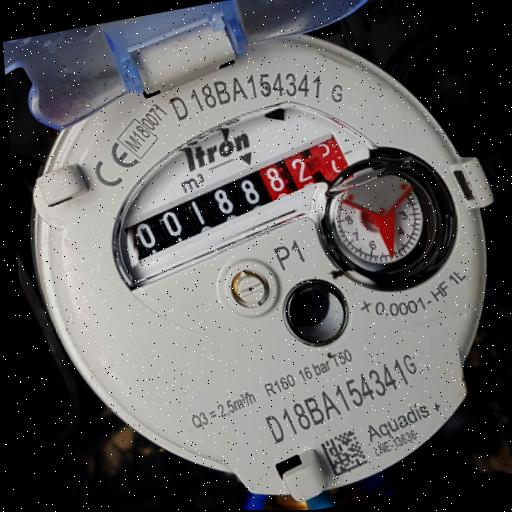0: (127, 214, 167, 259), (155, 203, 194, 247)
1: (179, 191, 222, 235)
2: (281, 149, 318, 191)
5: (306, 134, 352, 184)
8: (207, 180, 248, 224), (255, 158, 296, 201), (231, 168, 271, 212)
border_water_meter_number: (109, 134, 370, 272)
